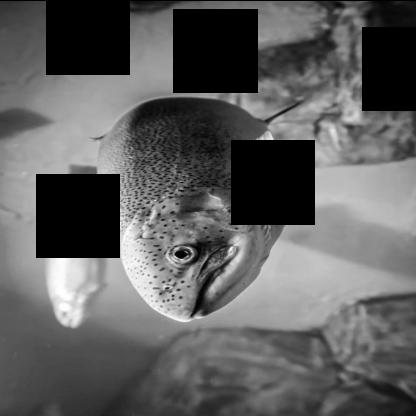fish: (88, 88, 304, 320), (36, 159, 120, 339)
